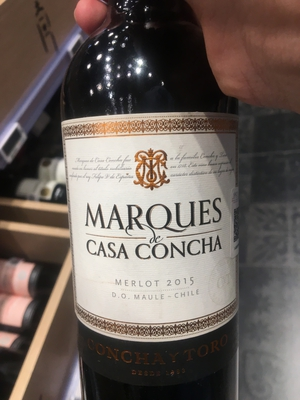marques de casa concha merlot: (53, 18, 253, 400)
